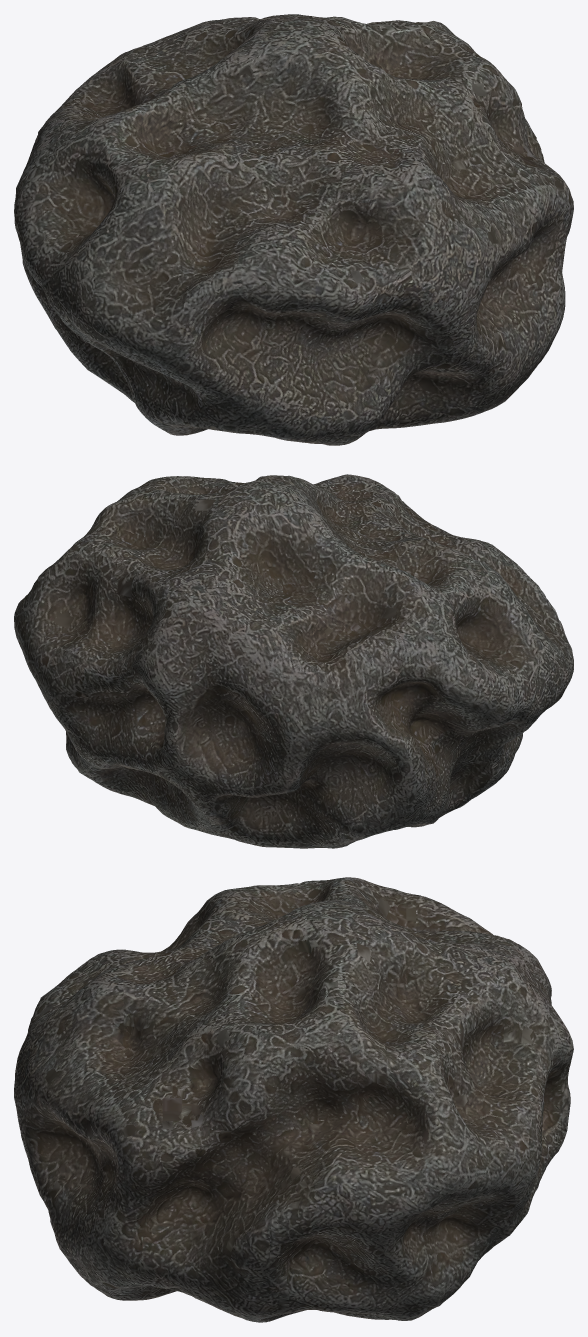
The model's file is asteroid_common_2.remesh.glb.
3 views of the same model, one above another, from view 1: azimuth 30°, elevation 25°; view 2: azimuth 150°, elevation 25°; view 3: azimuth 270°, elevation 25° (orthographic). The views are drawn at different scales.
Visible parts, largest first — view 1: model; view 2: model; view 3: model.
Part boxes in pixels (x1,y1,x2,y2): model: [14, 14, 573, 445]; model: [14, 474, 573, 848]; model: [14, 877, 573, 1322].
Bounding box in the file's own units: 1.89 × 1.26 × 1.72.
1 material, 1 textured.
